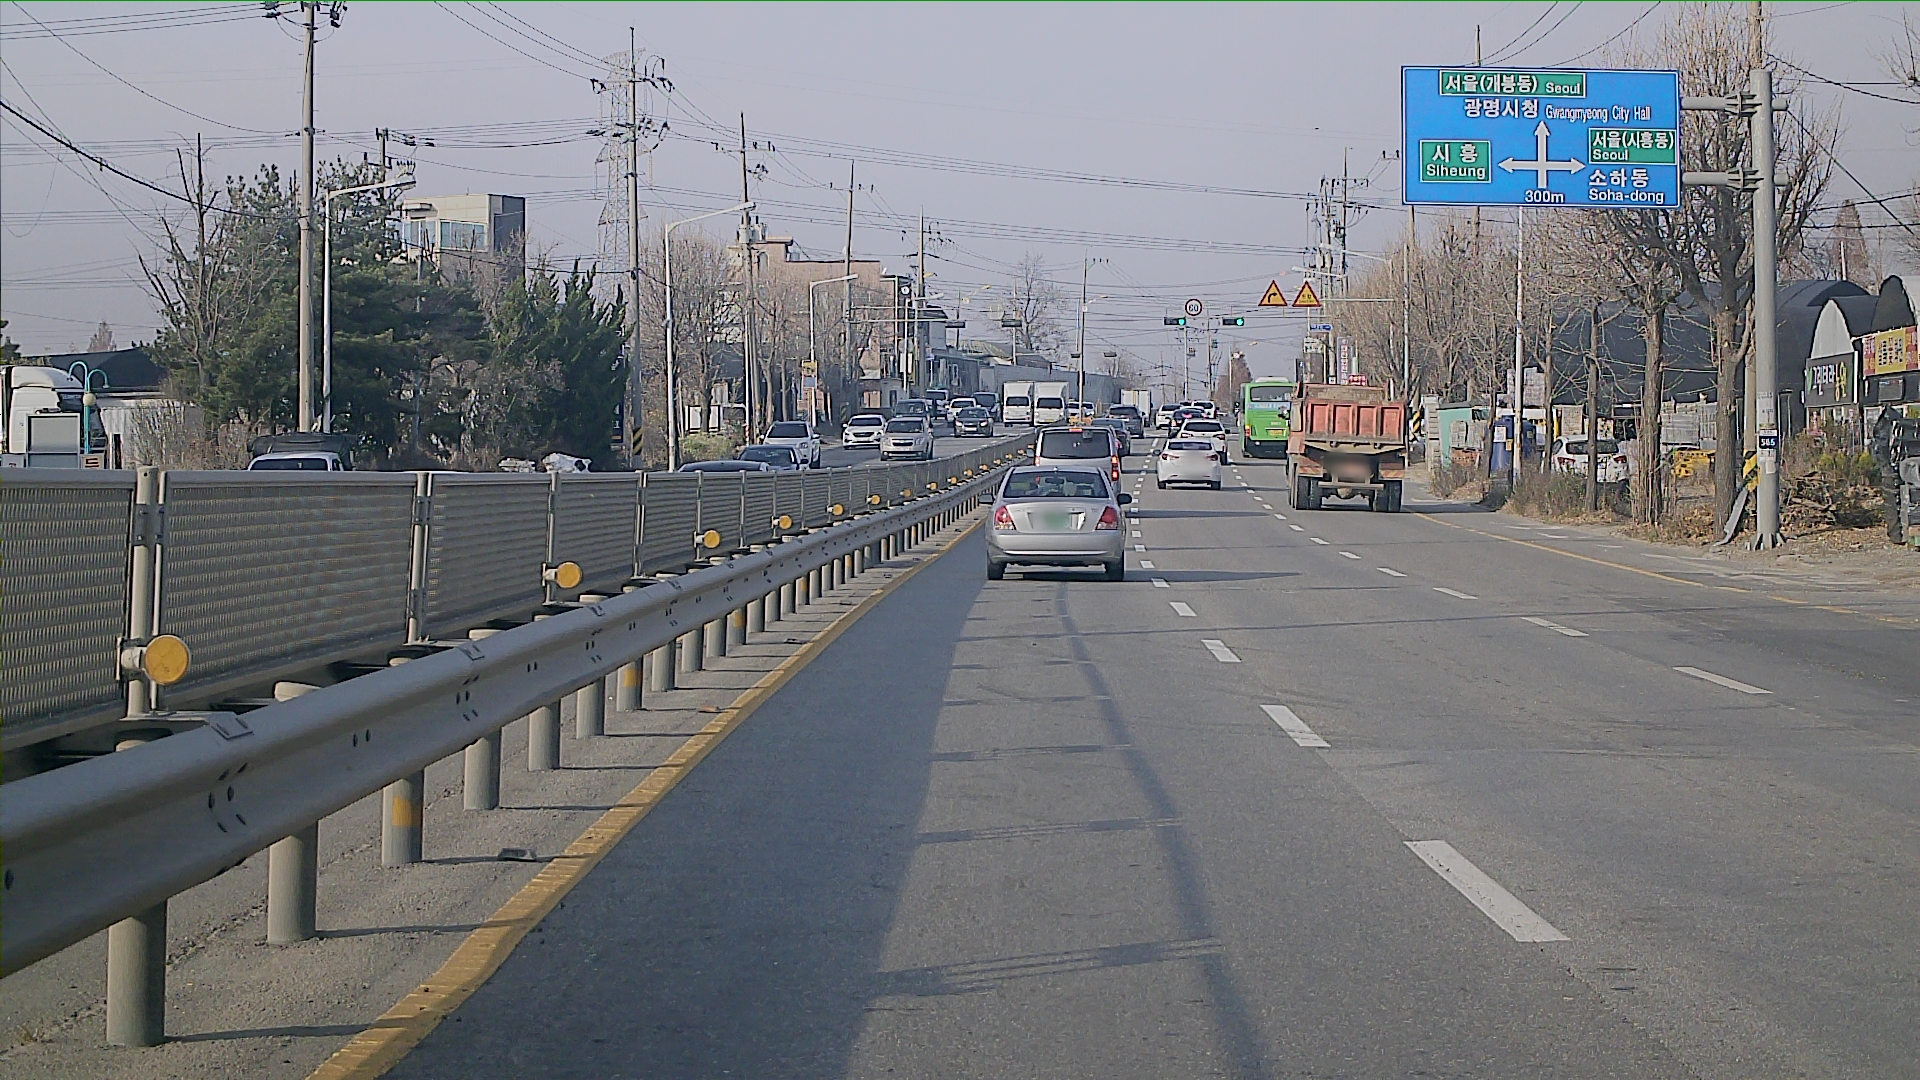trafficLight: (1222, 316, 1244, 328)
trafficSignCircle: (1185, 295, 1203, 315)
trafficSignTri: (1292, 280, 1323, 313), (1257, 280, 1284, 310)
